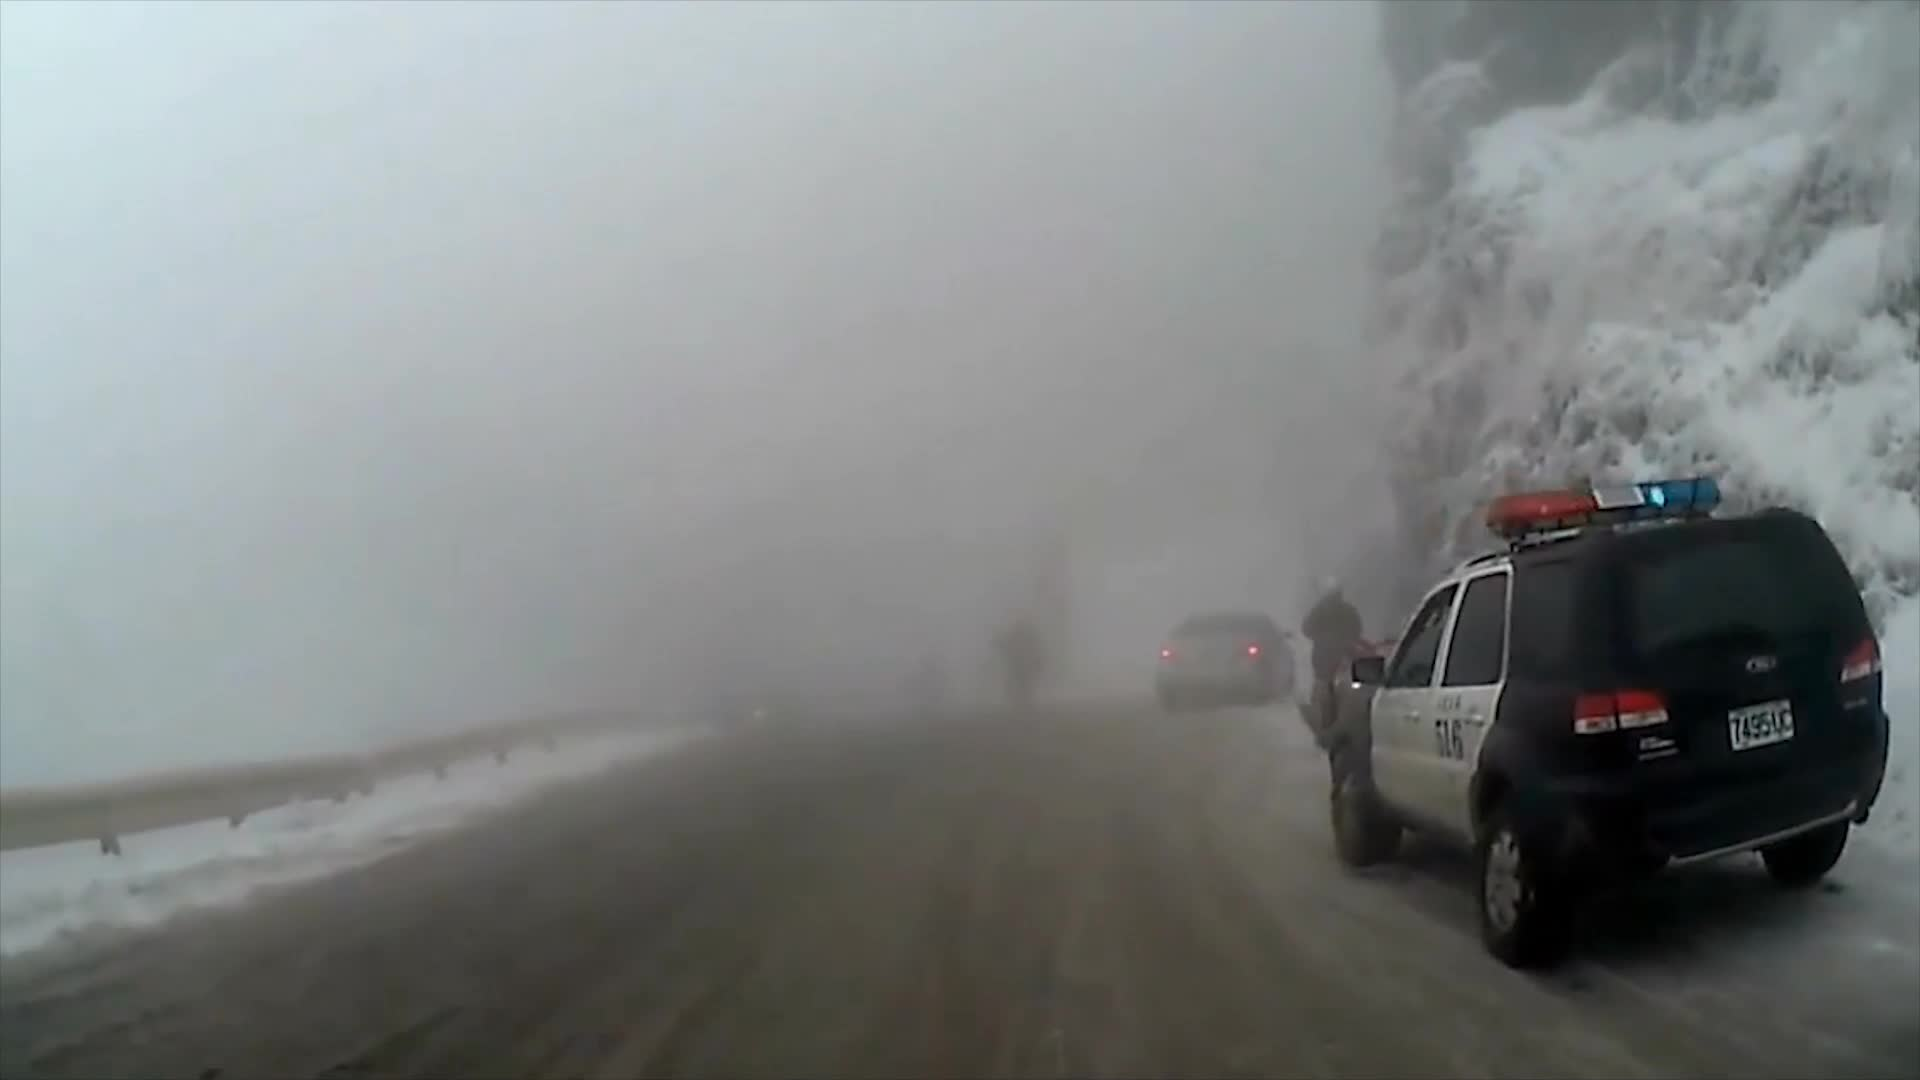pedestrian: (1299, 574, 1376, 739)
vehicle: (1327, 472, 1891, 967), (1154, 611, 1296, 712)
